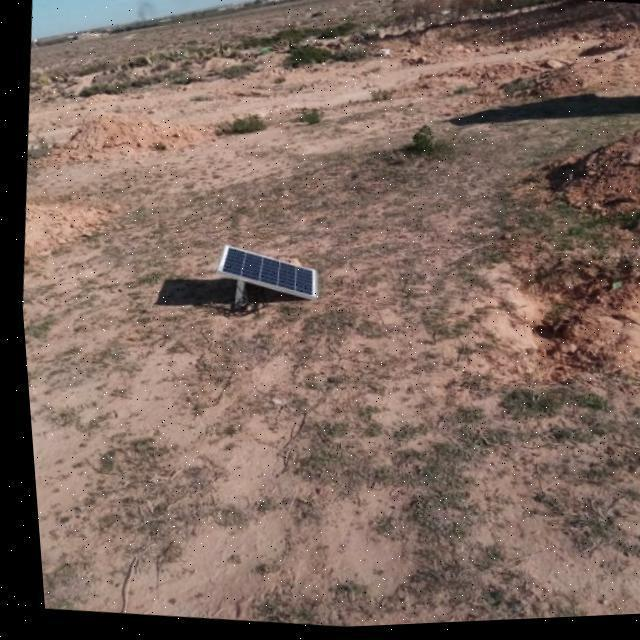Normal Solar Panel: (209, 243, 316, 303)
